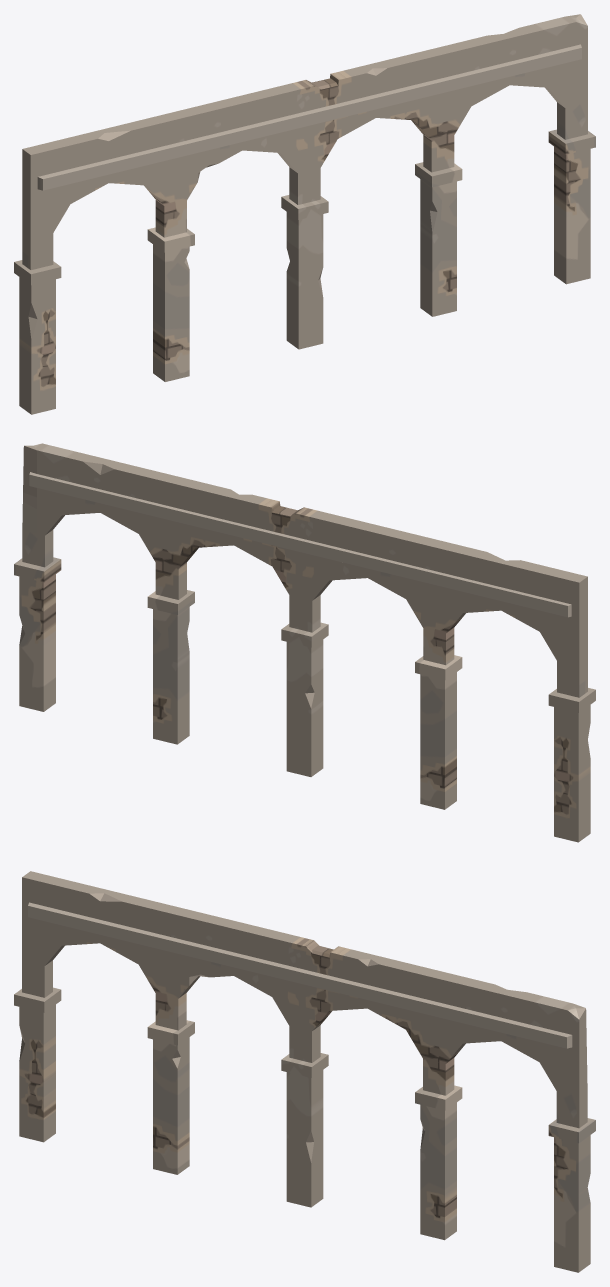
The model's file is SM_Bld_Village_Archway_02.fbx.
The picture shows the model from 3 angles, top to bottom: view 1: azimuth 30°, elevation 25°; view 2: azimuth 150°, elevation 25°; view 3: azimuth 330°, elevation 25°; orthographic projection.
Parts seen in each view (by area): view 1: SM_Bld_Village_Archway_02; view 2: SM_Bld_Village_Archway_02; view 3: SM_Bld_Village_Archway_02.
Boxes of the visible parts, box(x1,y1,x2,y2) form: SM_Bld_Village_Archway_02: box(14, 14, 595, 414); SM_Bld_Village_Archway_02: box(14, 443, 595, 842); SM_Bld_Village_Archway_02: box(14, 871, 595, 1272).
Size of the model in its own units: 970 by 423 by 50.21.
